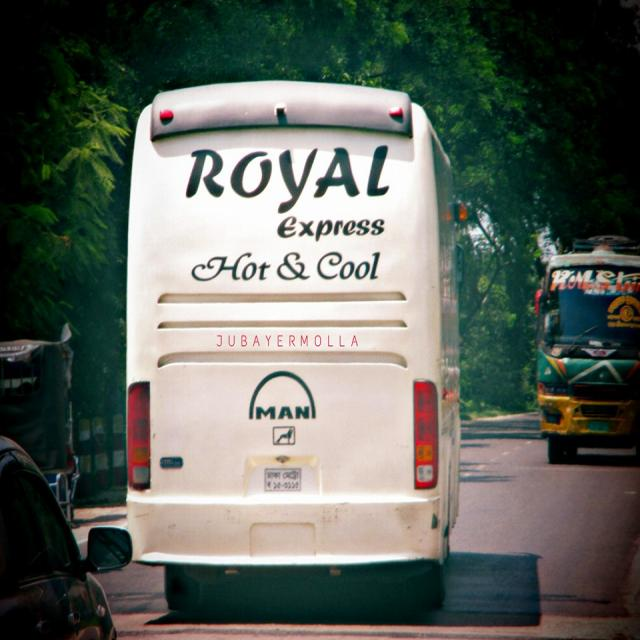bus: (127, 78, 460, 611)
